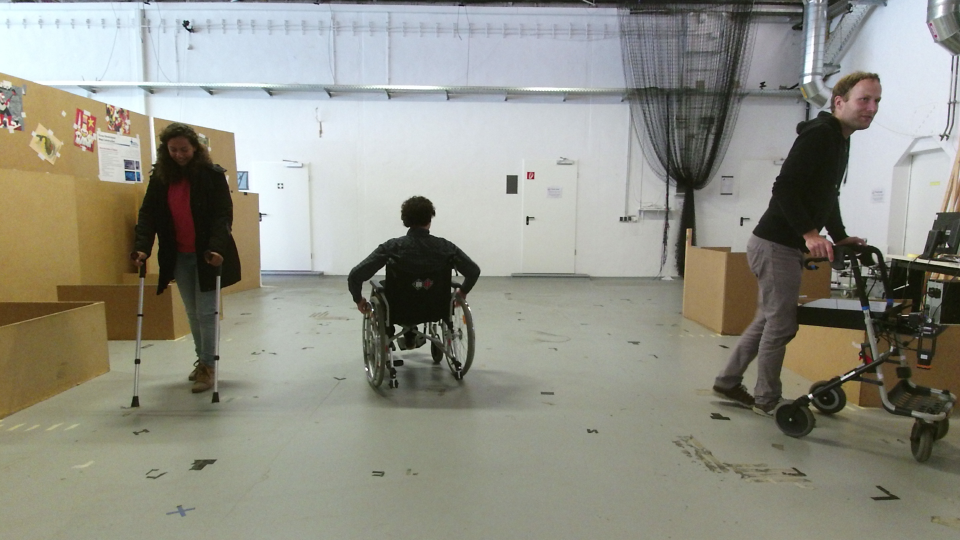crutches: (120, 116, 246, 405)
wheelchair: (341, 190, 489, 399)
